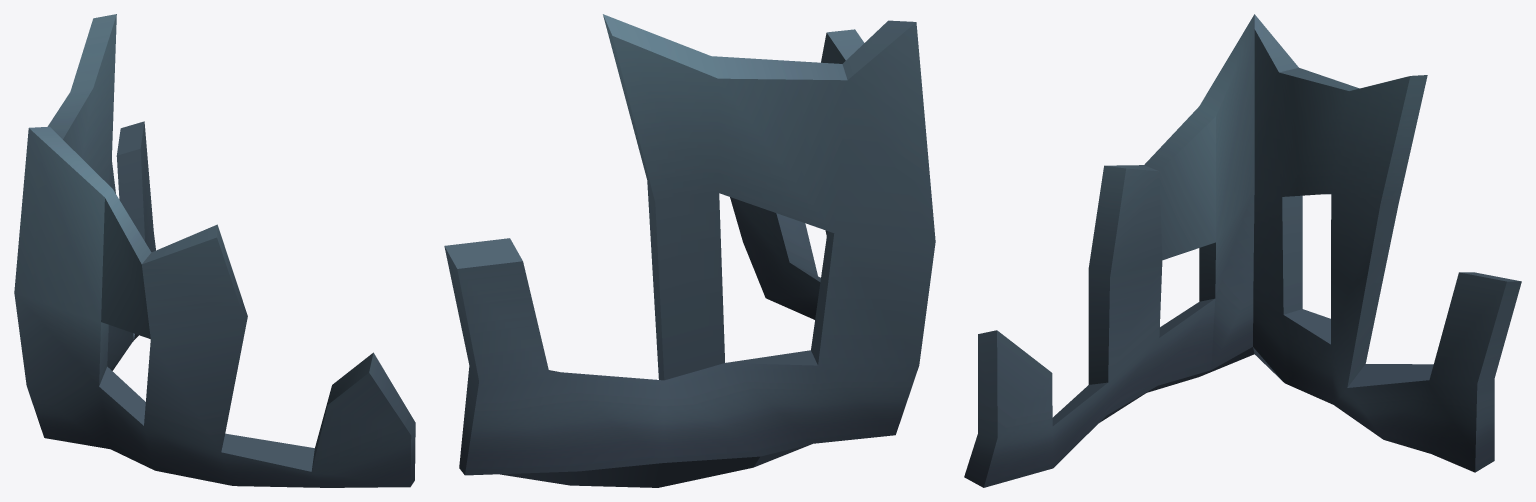
The model's file is Building_T012.fbx.
3 views of the same model, side by side, from view 1: azimuth 30°, elevation 25°; view 2: azimuth 150°, elevation 25°; view 3: azimuth 270°, elevation 25° (orthographic). The views are drawn at different scales.
Parts seen in each view (by area): view 1: Building_T012; view 2: Building_T012; view 3: Building_T012.
Part boxes in pixels (x1,y1,x2,y2): Building_T012: (14, 14, 415, 487); Building_T012: (444, 14, 935, 487); Building_T012: (964, 14, 1521, 487).
Bounding box in the file's own units: 18.36 × 22.44 × 29.95.
